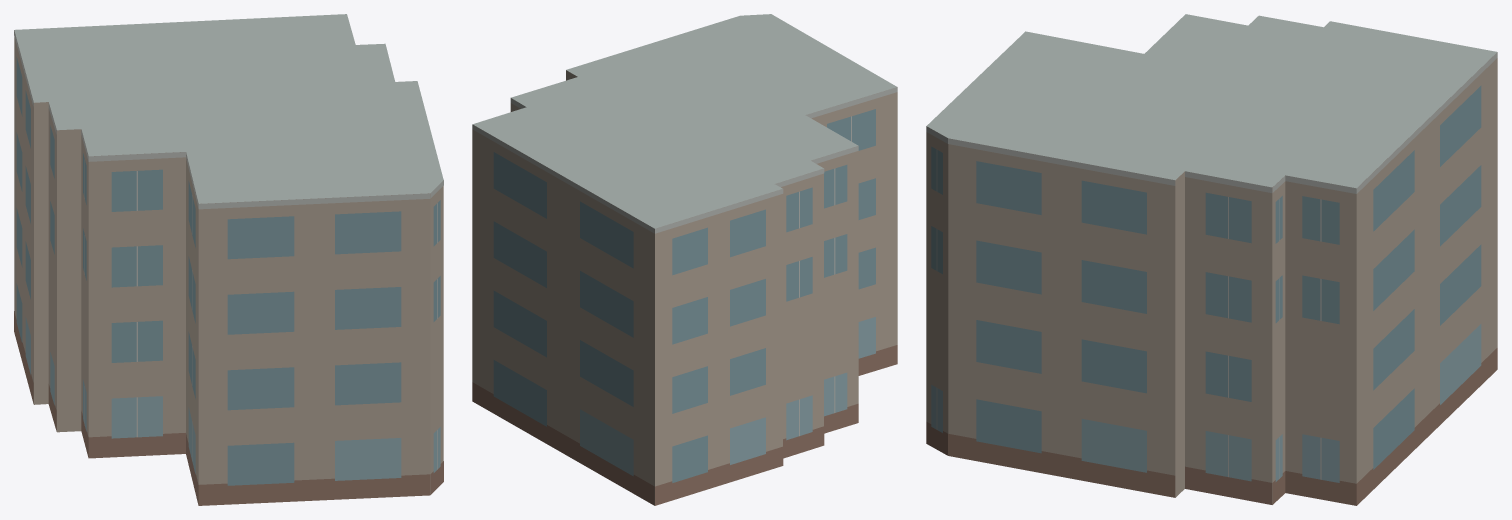
The model's file is survey-upis-32658244.glb.
3 renders of one model, left to right at view 1: azimuth 30°, elevation 25°; view 2: azimuth 150°, elevation 25°; view 3: azimuth 270°, elevation 25°, orthographic. The views are drawn at different scales.
Parts seen in each view (by area): view 1: survey-upis-32658244.tmp; view 2: survey-upis-32658244.tmp; view 3: survey-upis-32658244.tmp.
Part boxes in pixels (box(x1,y1,x2,y2)): survey-upis-32658244.tmp: box(14, 14, 443, 505); survey-upis-32658244.tmp: box(472, 14, 897, 505); survey-upis-32658244.tmp: box(926, 14, 1497, 505).
Size of the model in its own units: 15.78 by 13.4 by 21.85.
